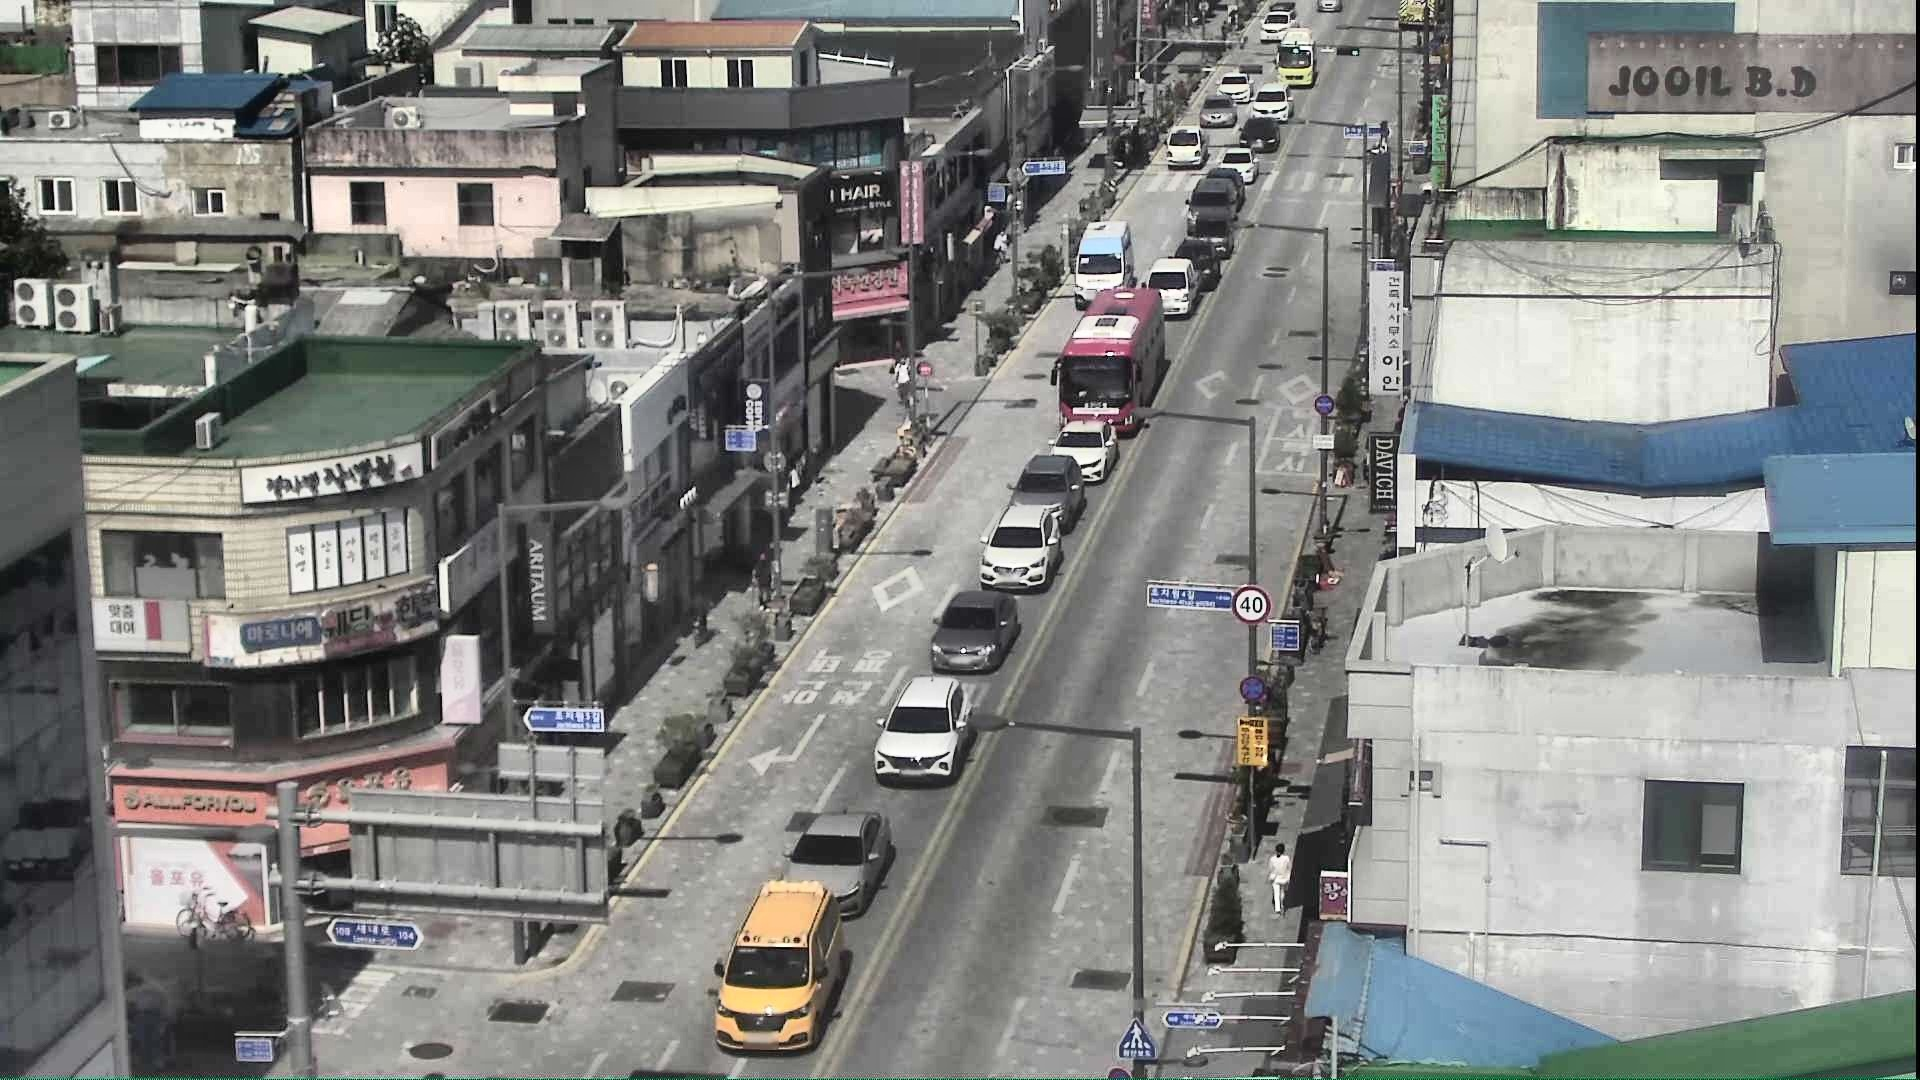sidewalk: (1265, 843, 1294, 914), (749, 549, 779, 613), (894, 353, 913, 404), (993, 229, 1010, 266)
